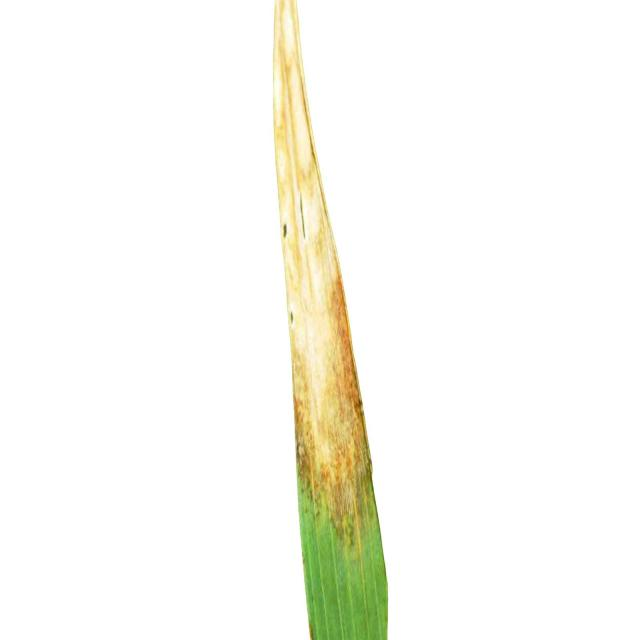Leaf scald: (150, 0, 416, 640)
